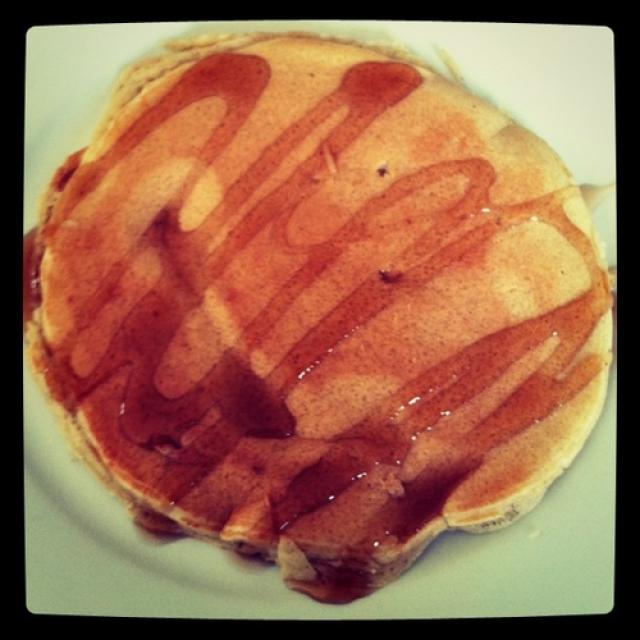蛋糕甜品: (51, 55, 585, 589)
